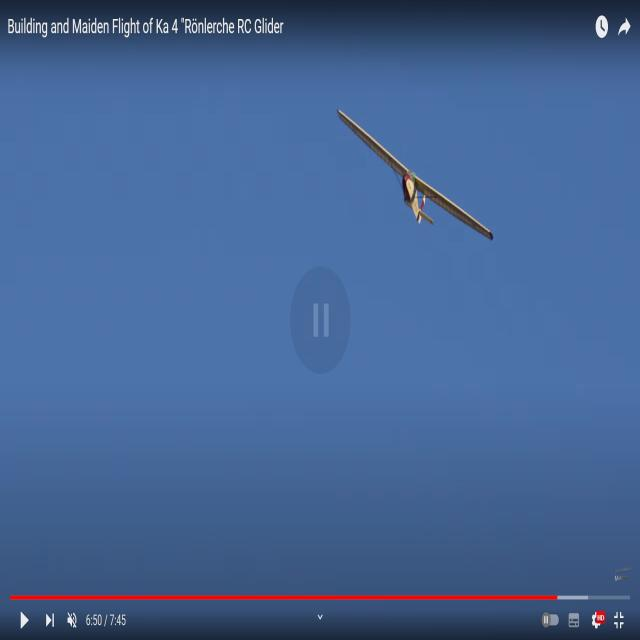iha: (338, 110, 498, 239)
